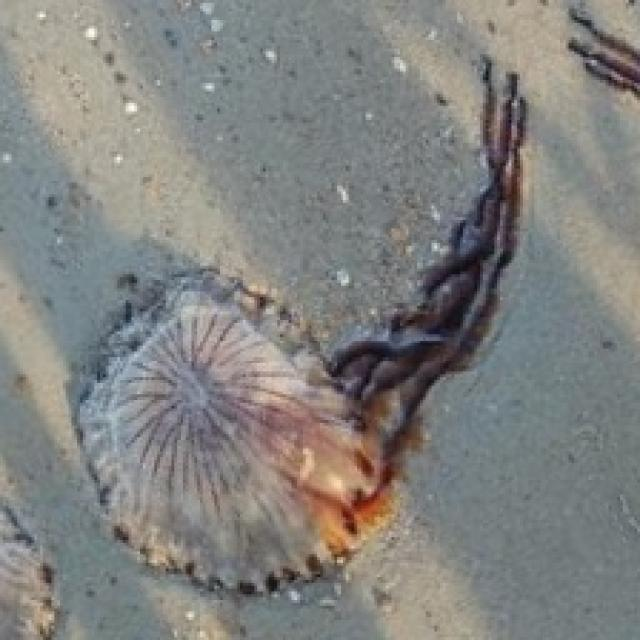Jellyfish: (72, 52, 529, 597)
